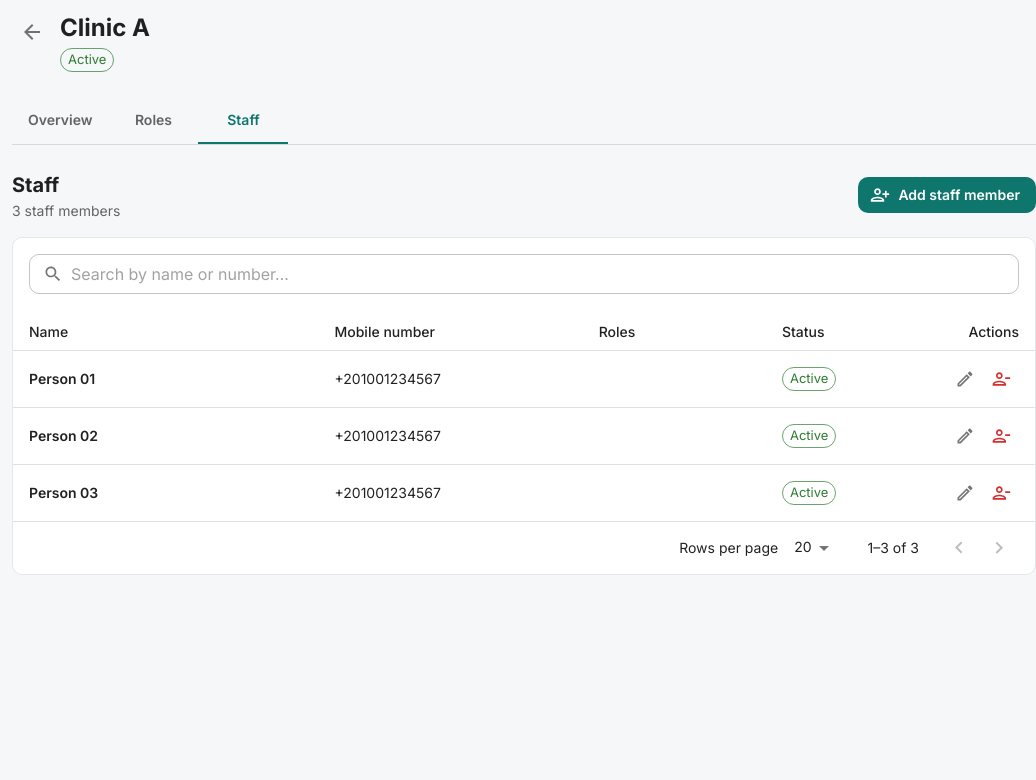
Test: staff list @area:admin › a search with no match (en): No staff members match your search. @ADM-239
Type "zzz" into the search field labelled "Search by name or number…" at (545, 274), box [71, 254, 1019, 294]
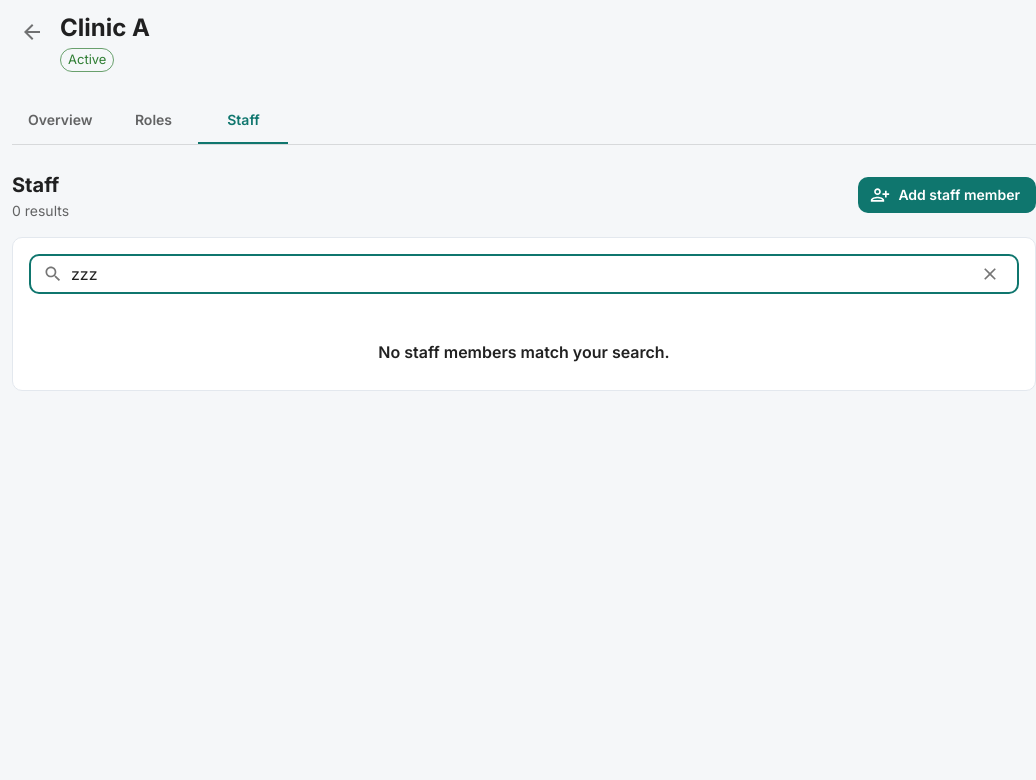
Check: the heading "No staff members match your search." is shown, box [378, 338, 670, 366]
